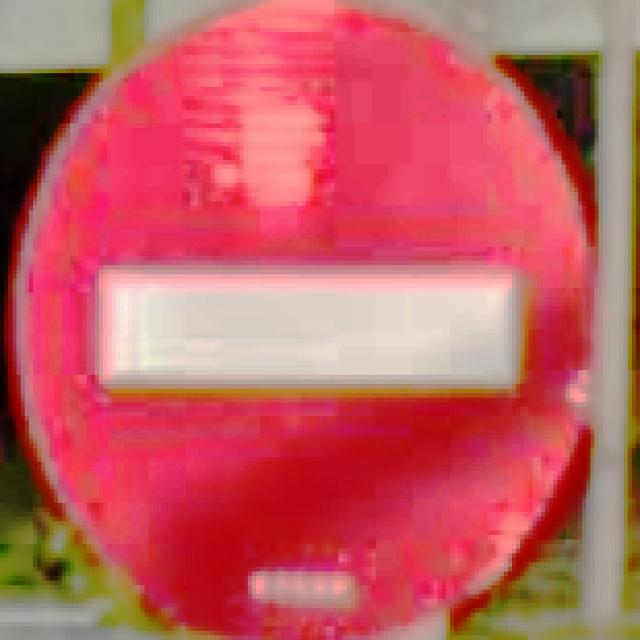noentry: (8, 0, 602, 635)
